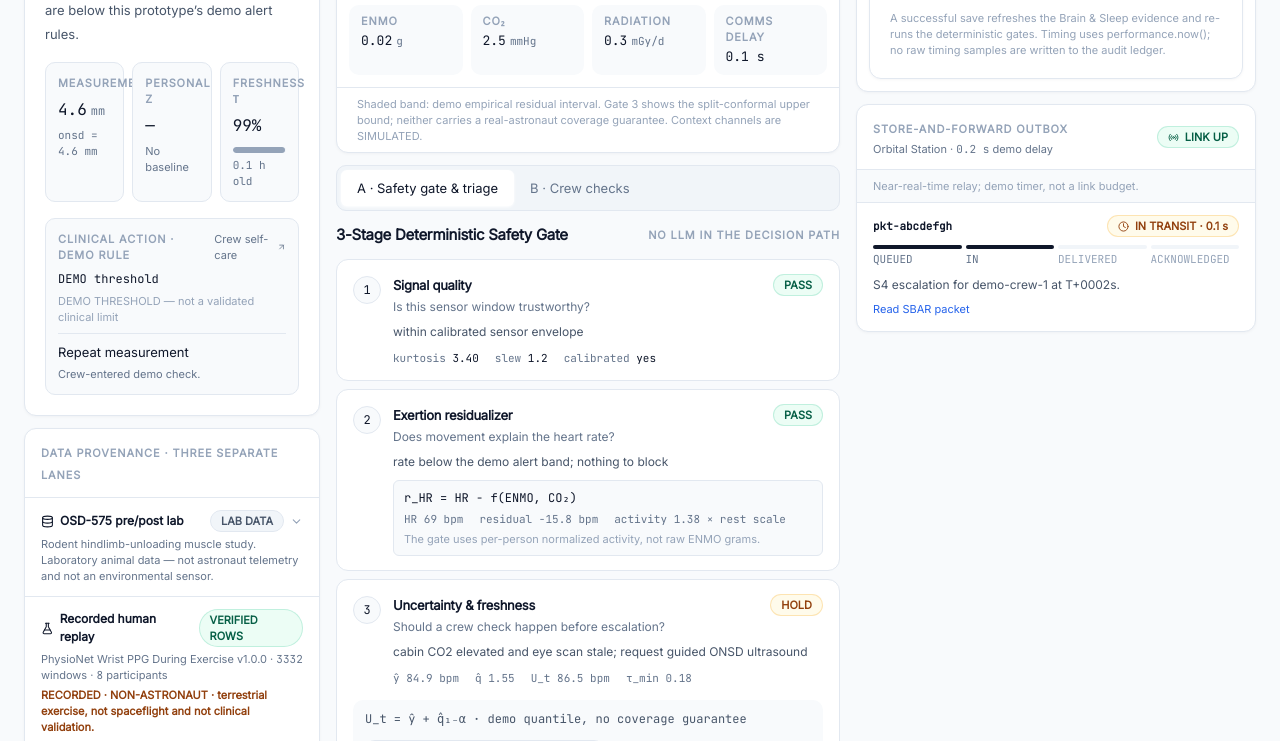
Test case: store-and-forward surgeon loop › shows the queued-to-acknowledged flow and the in-transit countdown
The image size is (1280, 741).
(page scrolled)
Expected: the text "IN TRANSIT · 0.1 s" is shown, top-left (1107, 215), bottom-right (1239, 237)
Expected: the text "pkt-abcdefgh" is shown, top-left (873, 218), bottom-right (952, 234)
Click the button "Read SBAR packet" at (921, 309), box top-left (873, 301), bottom-right (970, 317)
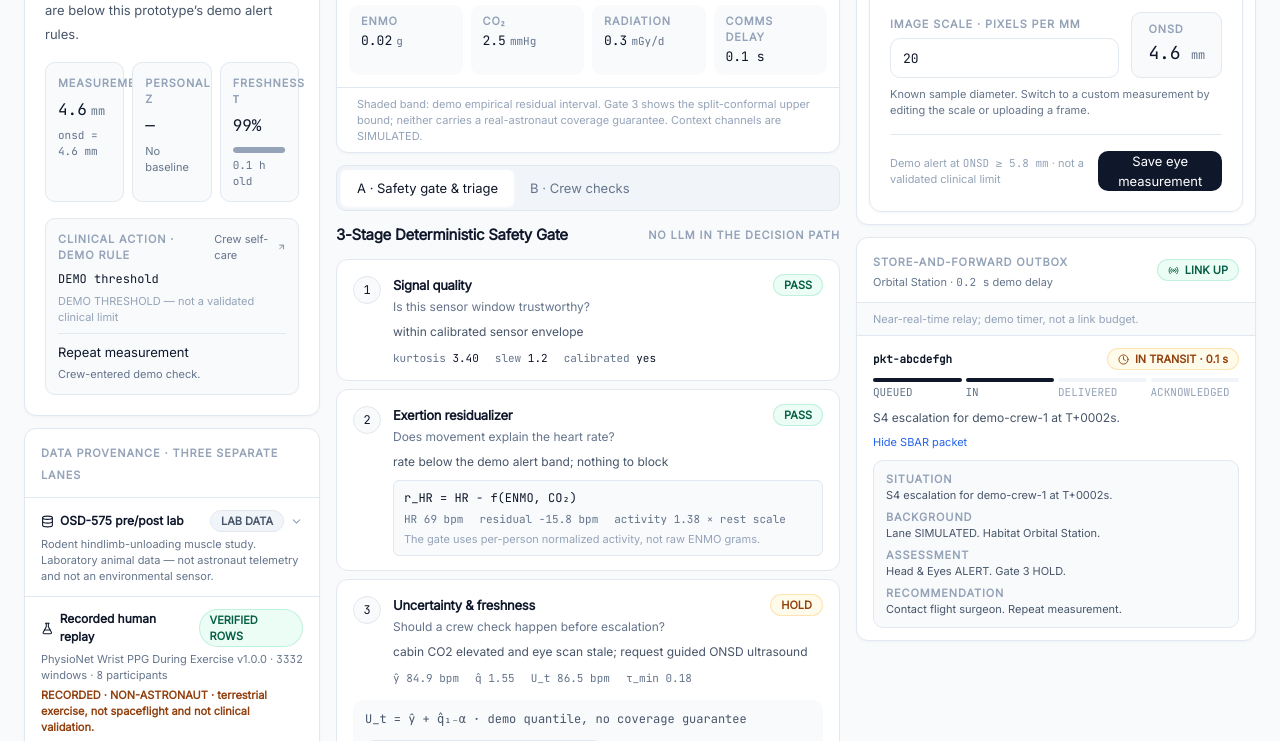
Expected: the 1st text "S4 escalation for demo-crew-1 at T+0002s." is shown, top-left (873, 410), bottom-right (1120, 425)
Expected: the text "Situation" is shown, top-left (886, 472), bottom-right (952, 486)
